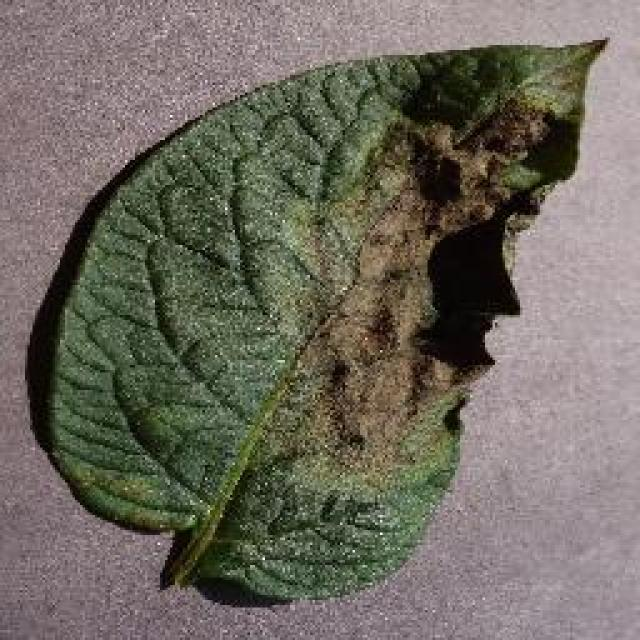green waste: (16, 26, 629, 632)
